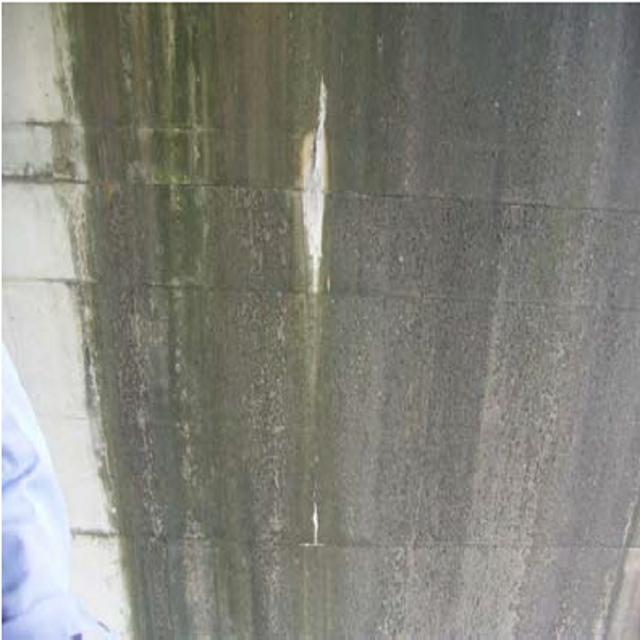freelime: (290, 83, 349, 291)
